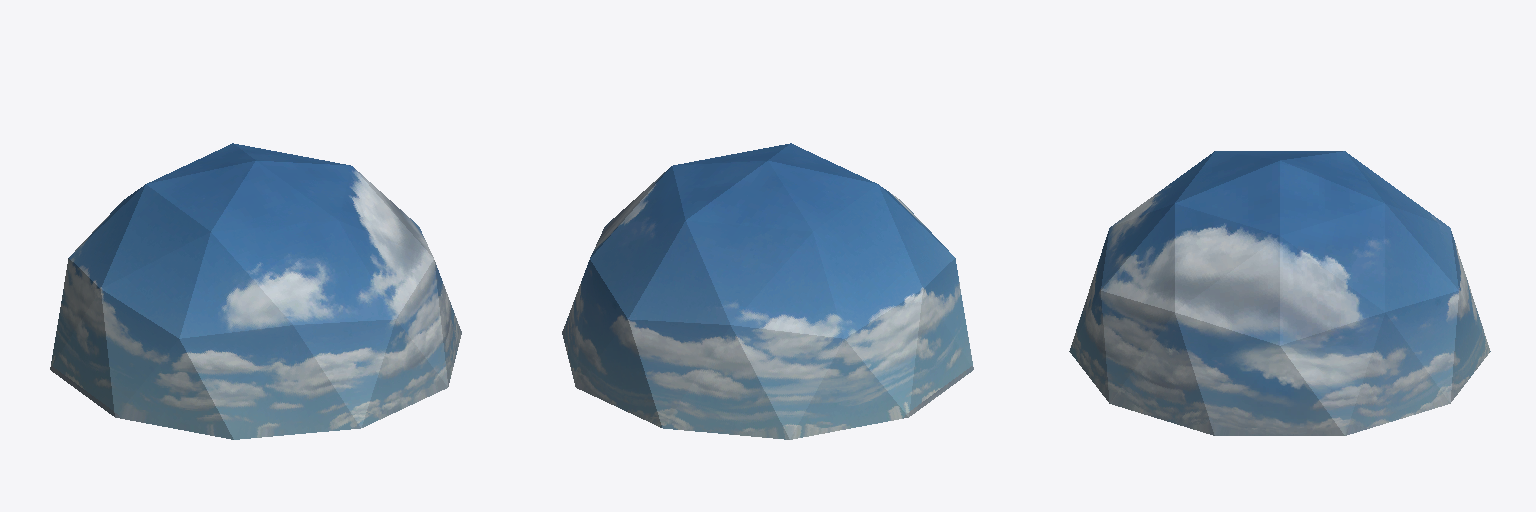
3 renders of one model, left to right at view 1: azimuth 30°, elevation 25°; view 2: azimuth 150°, elevation 25°; view 3: azimuth 270°, elevation 25°, orthographic.
Bounding box in the file's own units: 586 × 308 × 616.
1 materials, 1 textured.